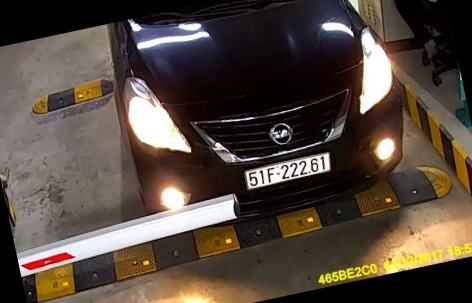plate: (240, 151, 334, 194)
